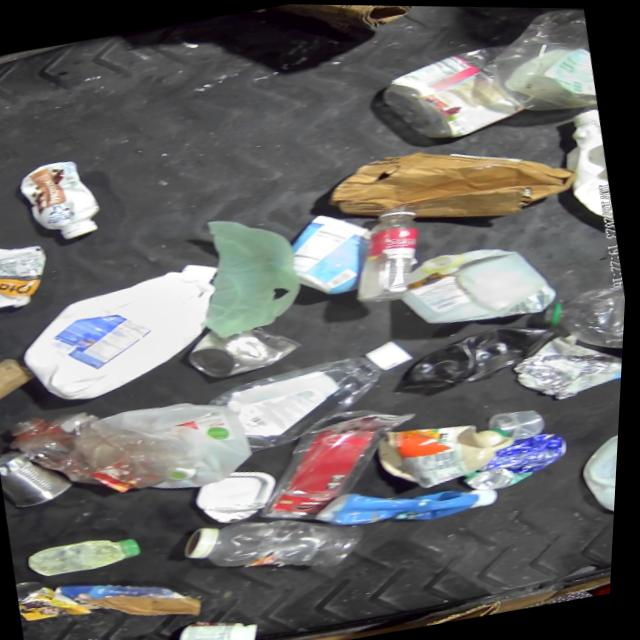can: (183, 311, 312, 386), (457, 425, 580, 497), (0, 438, 85, 513), (20, 568, 104, 627)
milk_jug: (10, 255, 243, 414), (97, 387, 267, 505), (392, 233, 558, 336), (575, 418, 623, 526)
plastic_bottle: (182, 495, 379, 596), (537, 276, 629, 363)
